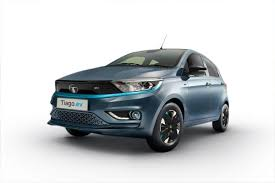Tiago: (44, 43, 232, 153)
